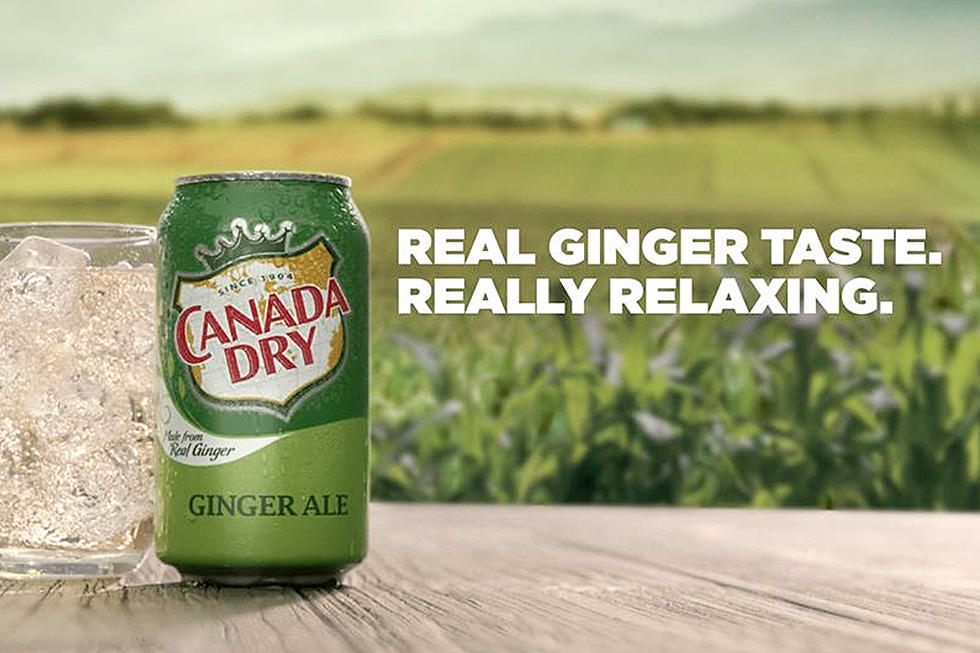Lata: (153, 165, 377, 597)
